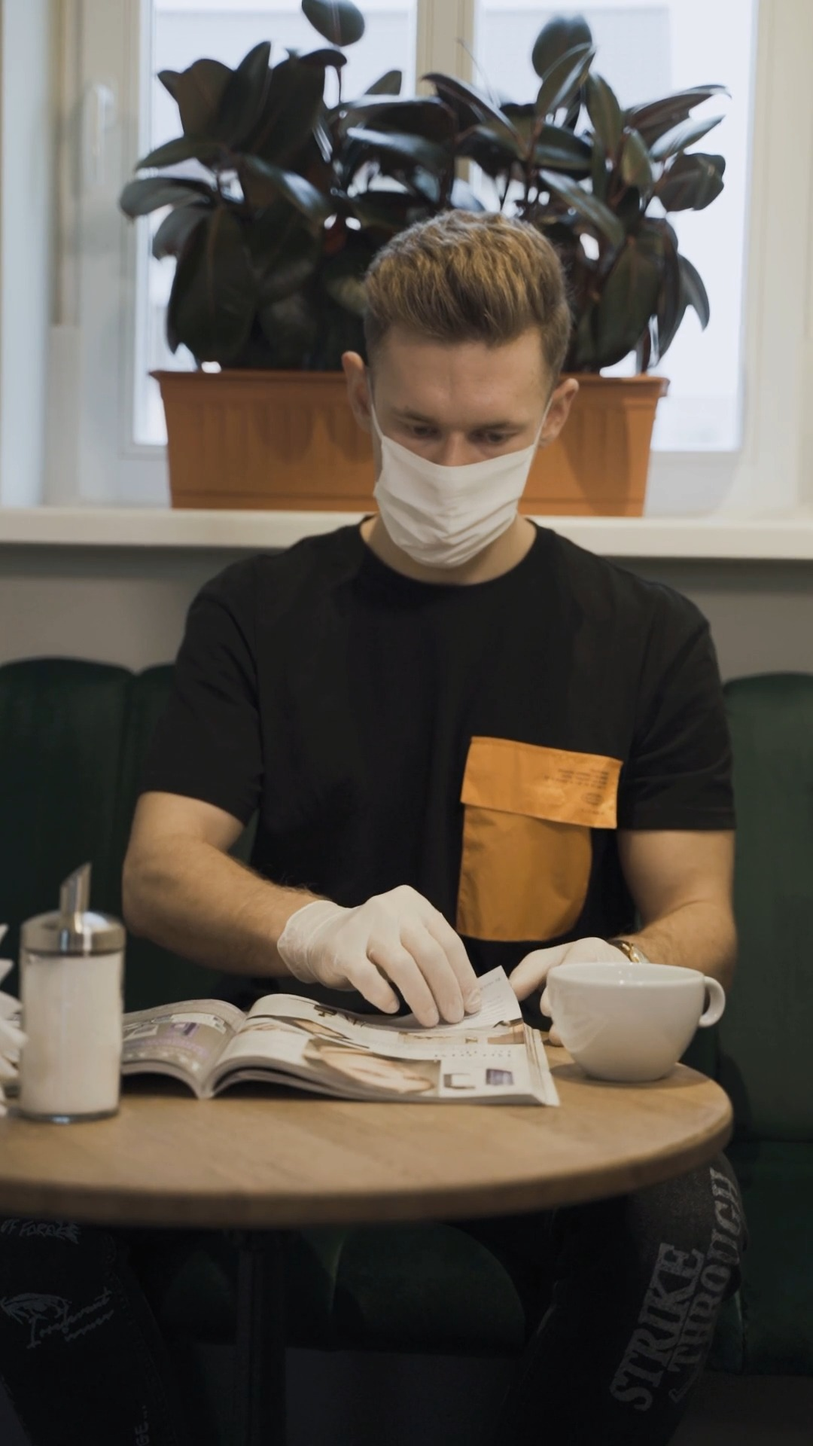gloves: (279, 876, 486, 1024)
